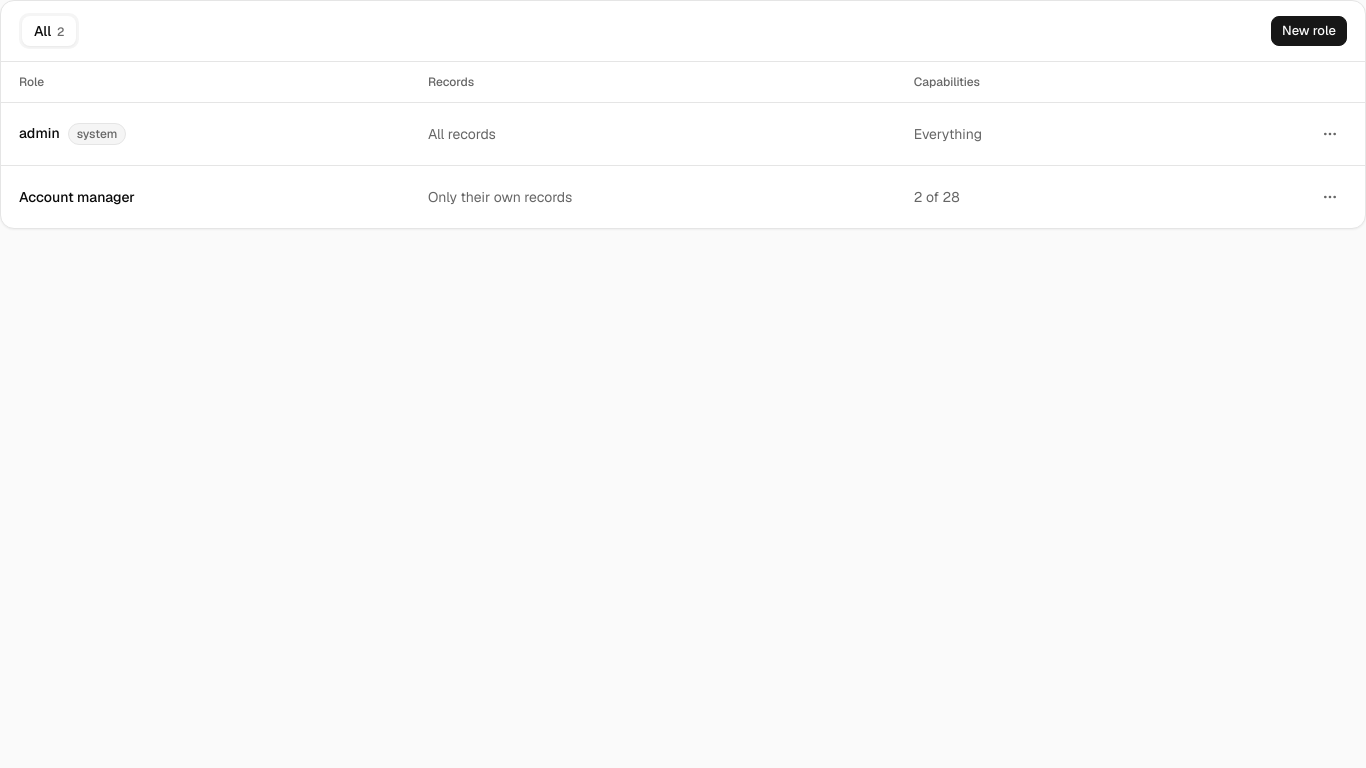
Test case: FR-CRMS-UI-6: roles set what members may do and which records they see › names capabilities in words, grouped by area; the catalogue string is not on the page
Click the button "New role" at (1309, 31), box [1271,16,1347,46]
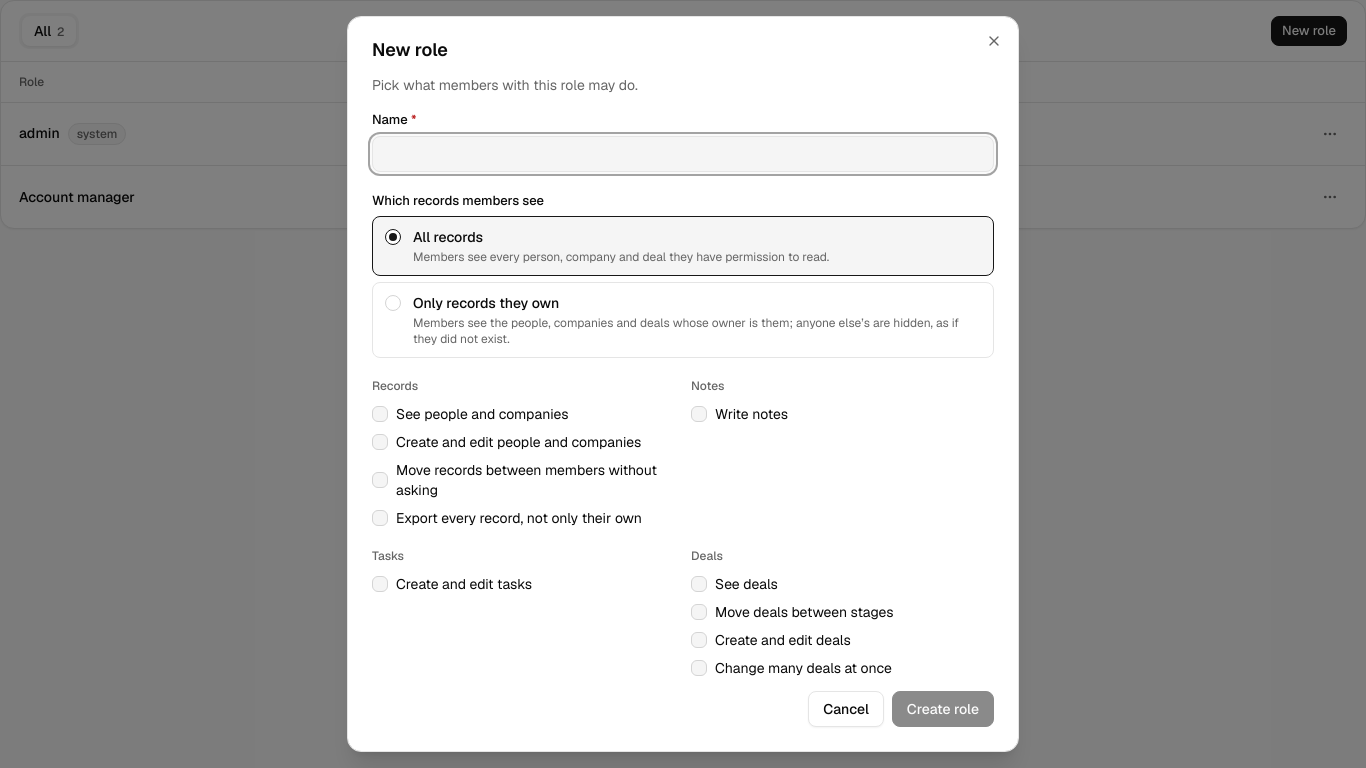
Now the element "Deals" is shown, box [691,548,894,677]
Now the checkbox named "Move deals between stages" next to "Move deals between stages" is shown, box [691,604,707,620]
